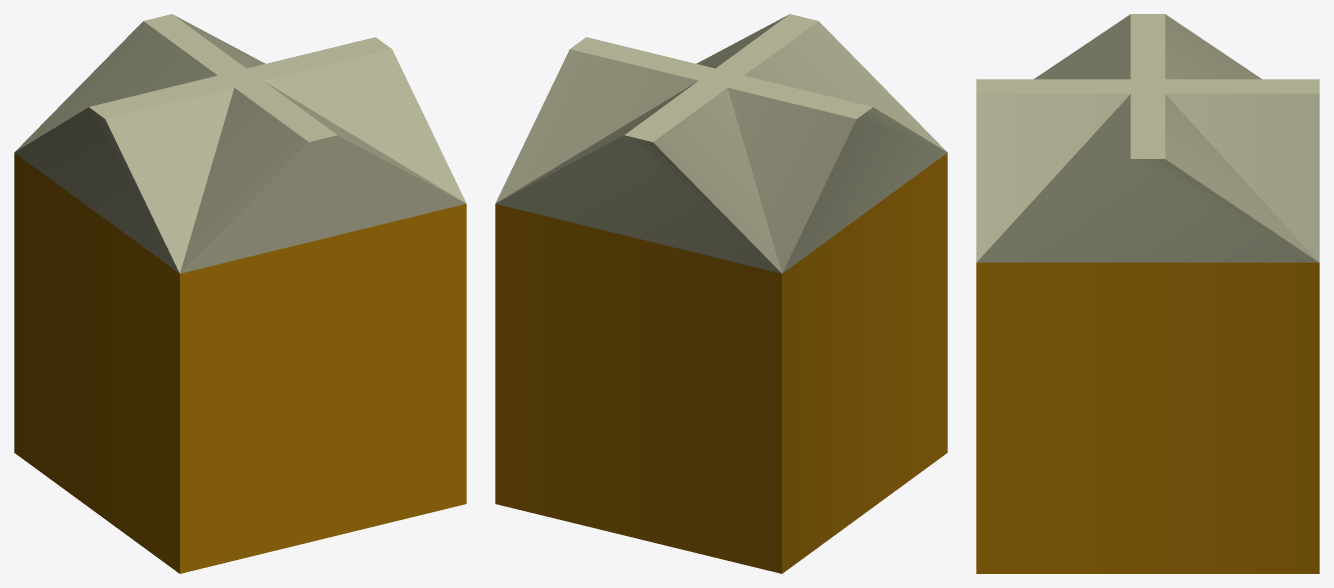
File: building-20-low.glb
3 views of the same model, side by side, from view 1: azimuth 30°, elevation 25°; view 2: azimuth 150°, elevation 25°; view 3: azimuth 270°, elevation 25° (orthographic). The views are drawn at different scales.
Visible parts, largest first — view 1: mesh0; view 2: mesh0; view 3: mesh0.
Part boxes in pixels (x1,y1,x2,y2): mesh0: (14, 14, 466, 573); mesh0: (495, 14, 947, 573); mesh0: (976, 14, 1319, 573).
Size of the model in its own units: 0.6 by 0.8 by 0.6.
